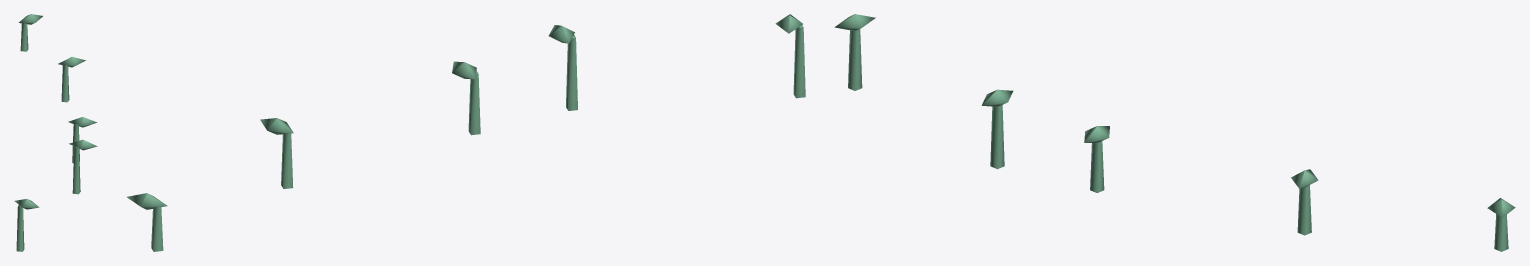
Rendered from flower_ring_stage1.glb.
The picture shows the model from 3 angles, left to right: view 1: azimuth 30°, elevation 25°; view 2: azimuth 150°, elevation 25°; view 3: azimuth 270°, elevation 25°; orthographic projection. The views are drawn at different scales.
Parts seen in each view (by area): view 1: flowers; view 2: flowers; view 3: flowers.
Boxes of the visible parts, x1=… form: flowers: x1=14, y1=14, x2=97, y2=251; flowers: x1=127, y1=14, x2=805, y2=251; flowers: x1=834, y1=14, x2=1515, y2=251.
Bounding box in the file's own units: 0.3554 × 0.0756 × 0.5721.
